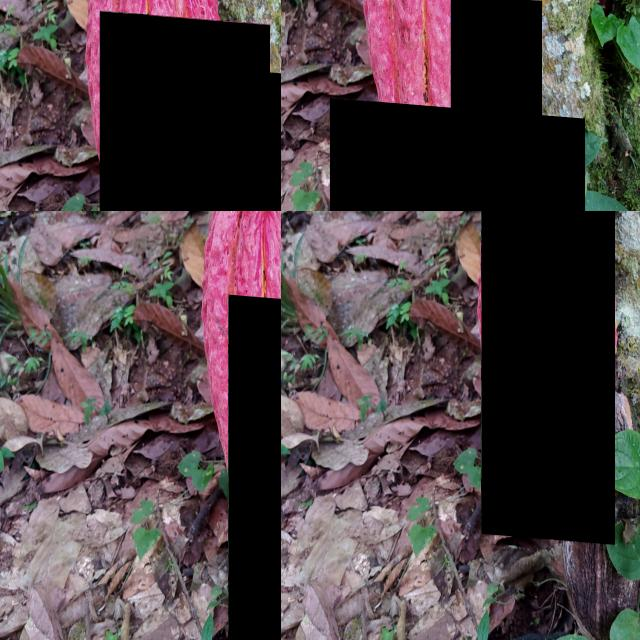Fitoftora: (100, 5, 270, 211), (330, 93, 585, 211), (564, 386, 640, 640), (228, 288, 281, 640)
Sana: (481, 211, 614, 537), (451, 0, 542, 135)
